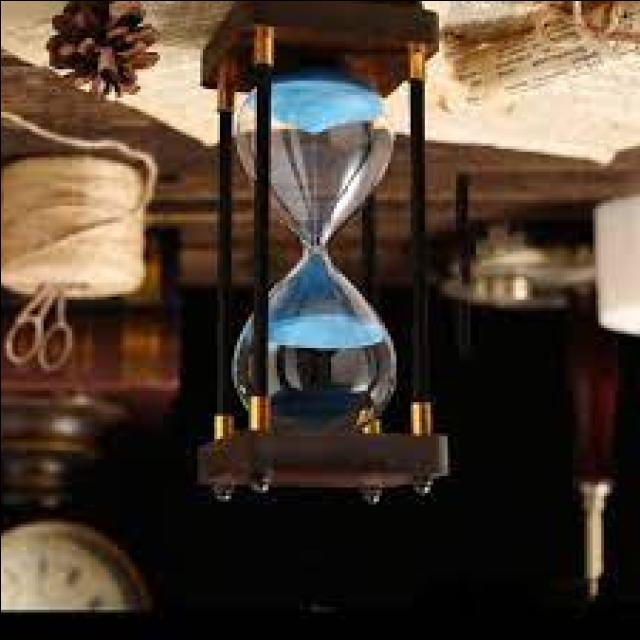clock: (169, 0, 459, 516)
